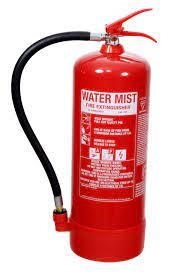fire-extinguisher: (9, 1, 163, 267)
